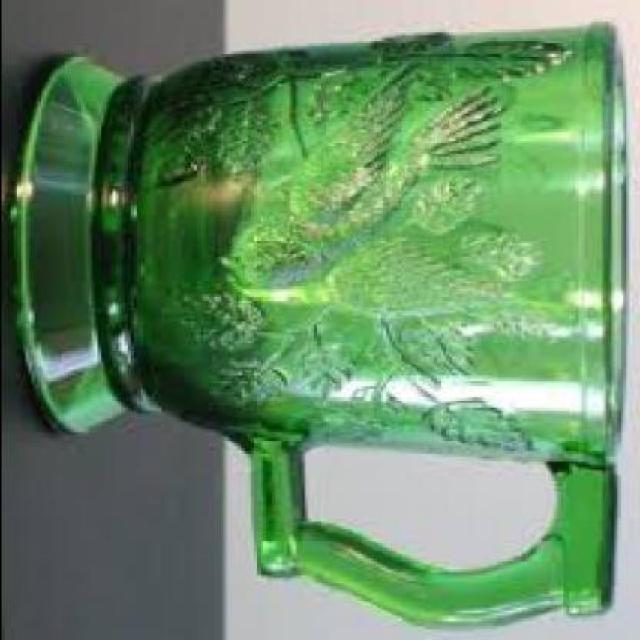GLASS: (15, 19, 628, 627)
